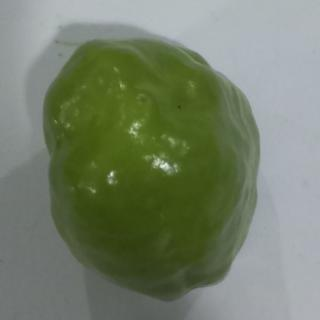Grade-A: (38, 30, 264, 302)
